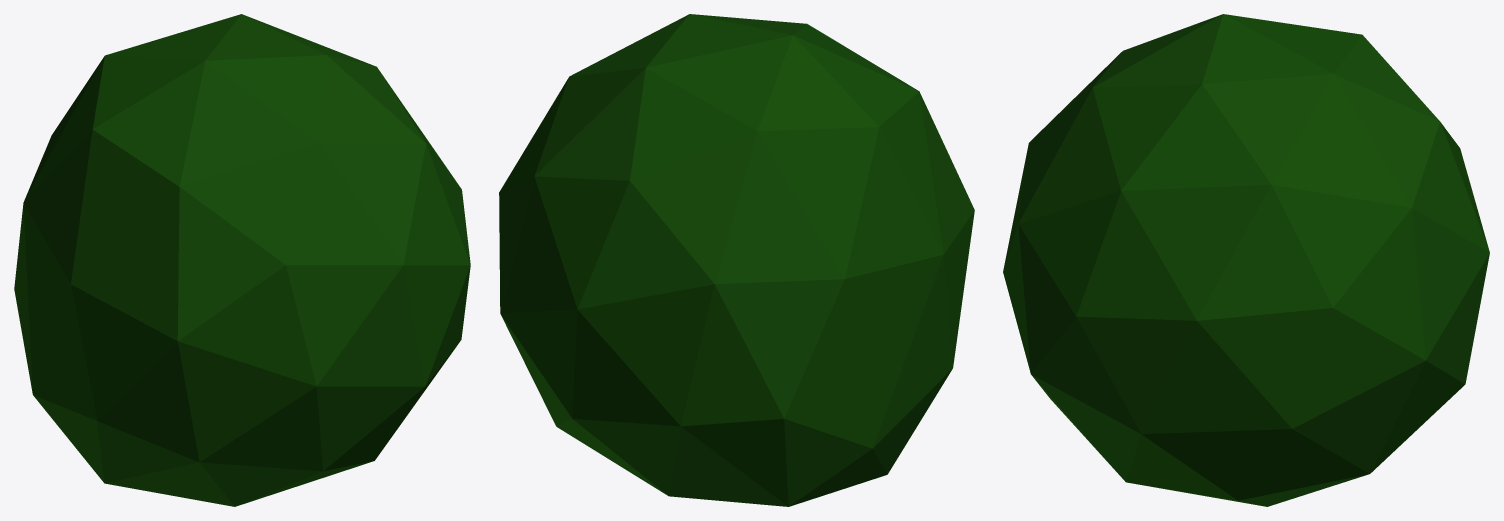
3 views of the same model, side by side, from view 1: azimuth 30°, elevation 25°; view 2: azimuth 150°, elevation 25°; view 3: azimuth 270°, elevation 25° (orthographic). The views are drawn at different scales.
Parts seen in each view (by area): view 1: Icosphere.011; view 2: Icosphere.011; view 3: Icosphere.011.
Part boxes in pixels (x1,y1,x2,y2): Icosphere.011: [14, 14, 470, 506]; Icosphere.011: [499, 14, 974, 506]; Icosphere.011: [1003, 14, 1489, 506].
Size of the model in its own units: 1.05 by 1.14 by 1.12.
